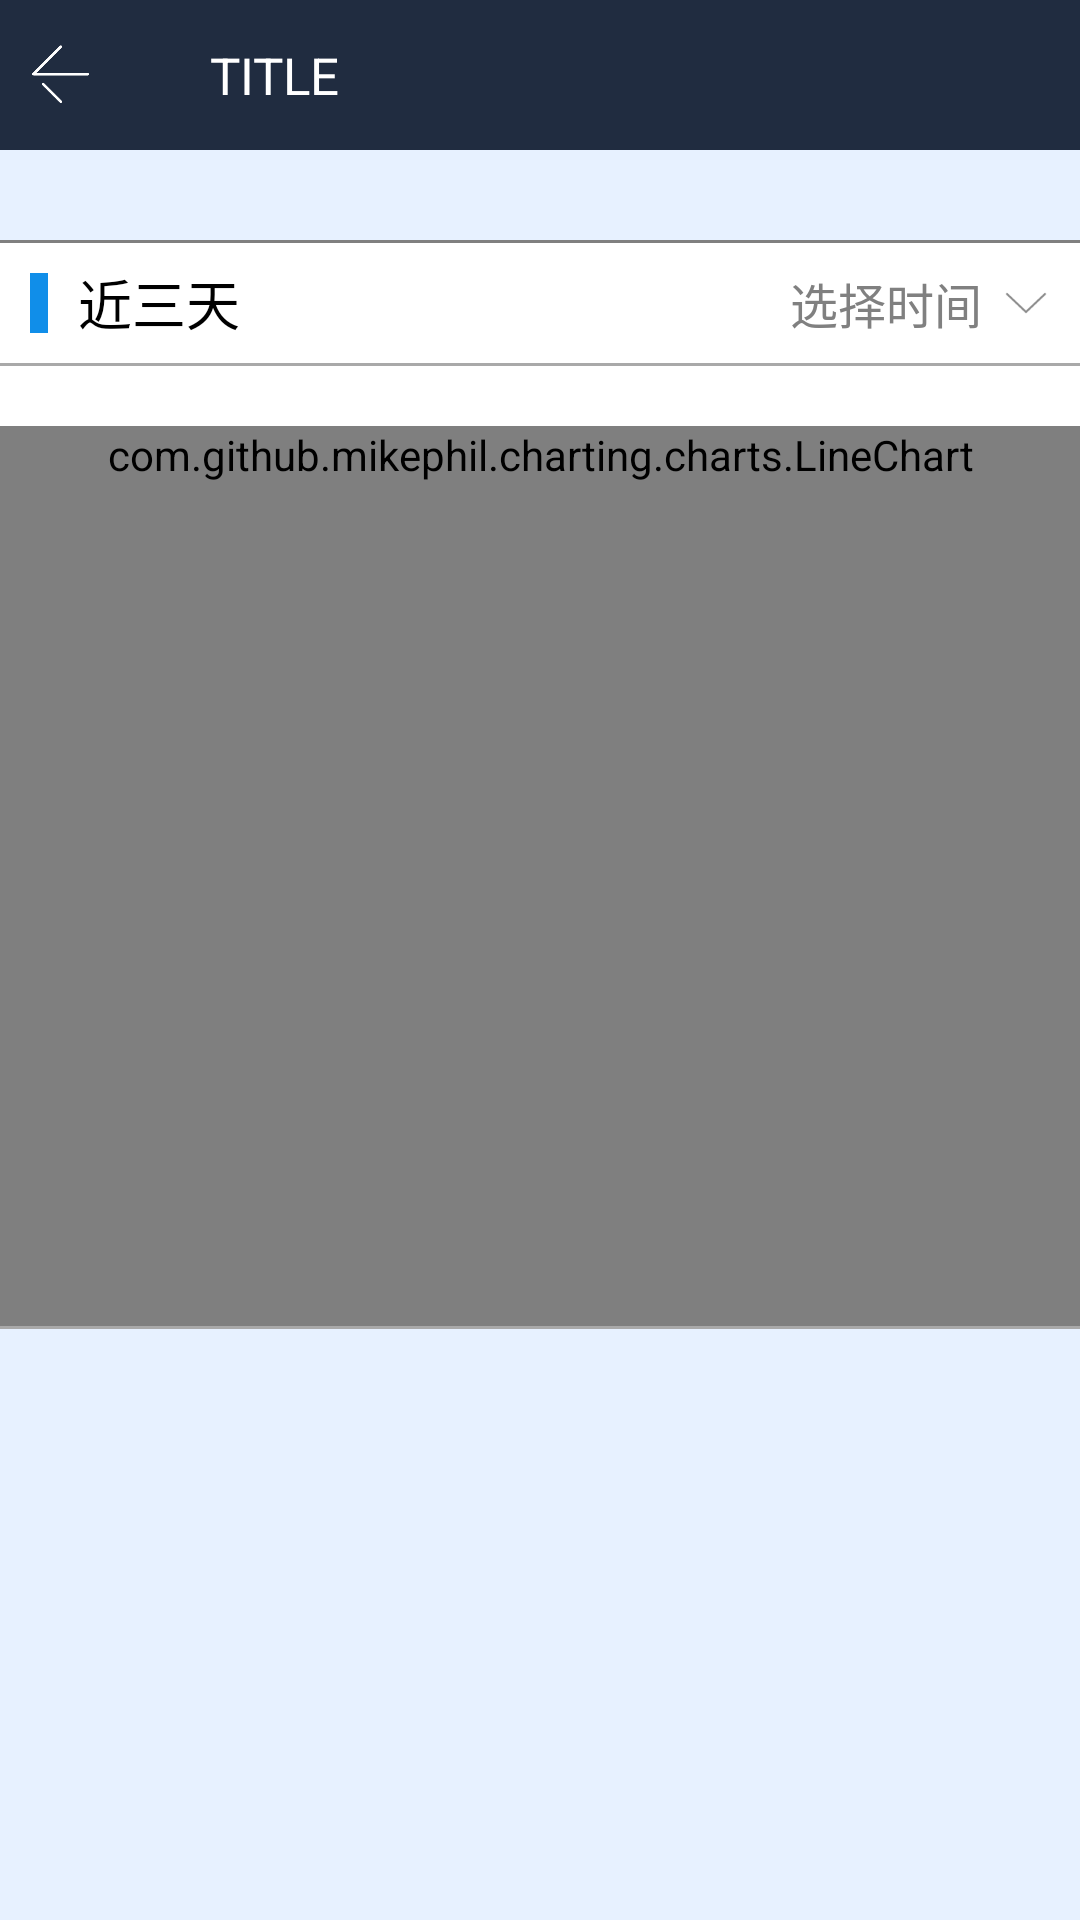

Named icons in this screenshot (1080×1920) and their centers, (x=x, y=y):
back: (x=60, y=74)
